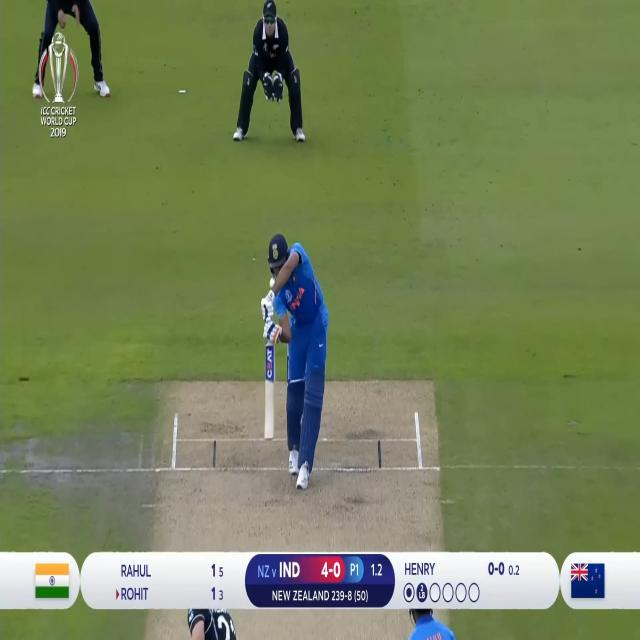ball: (268, 277, 277, 289)
